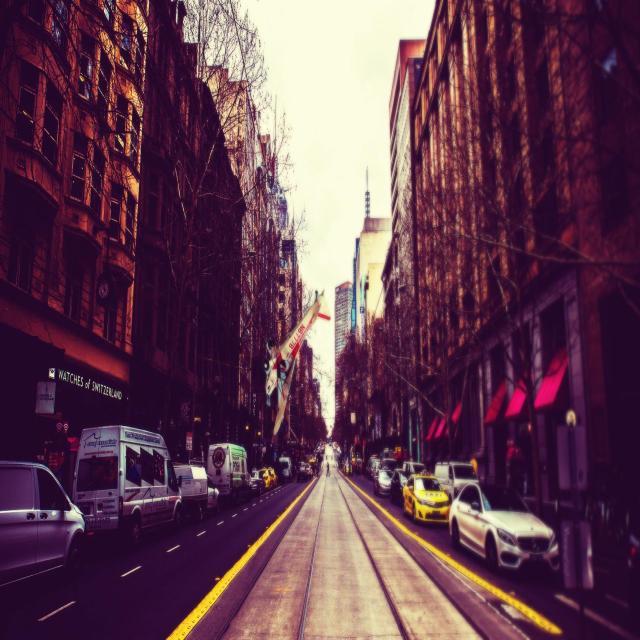airplane: (262, 288, 331, 436)
